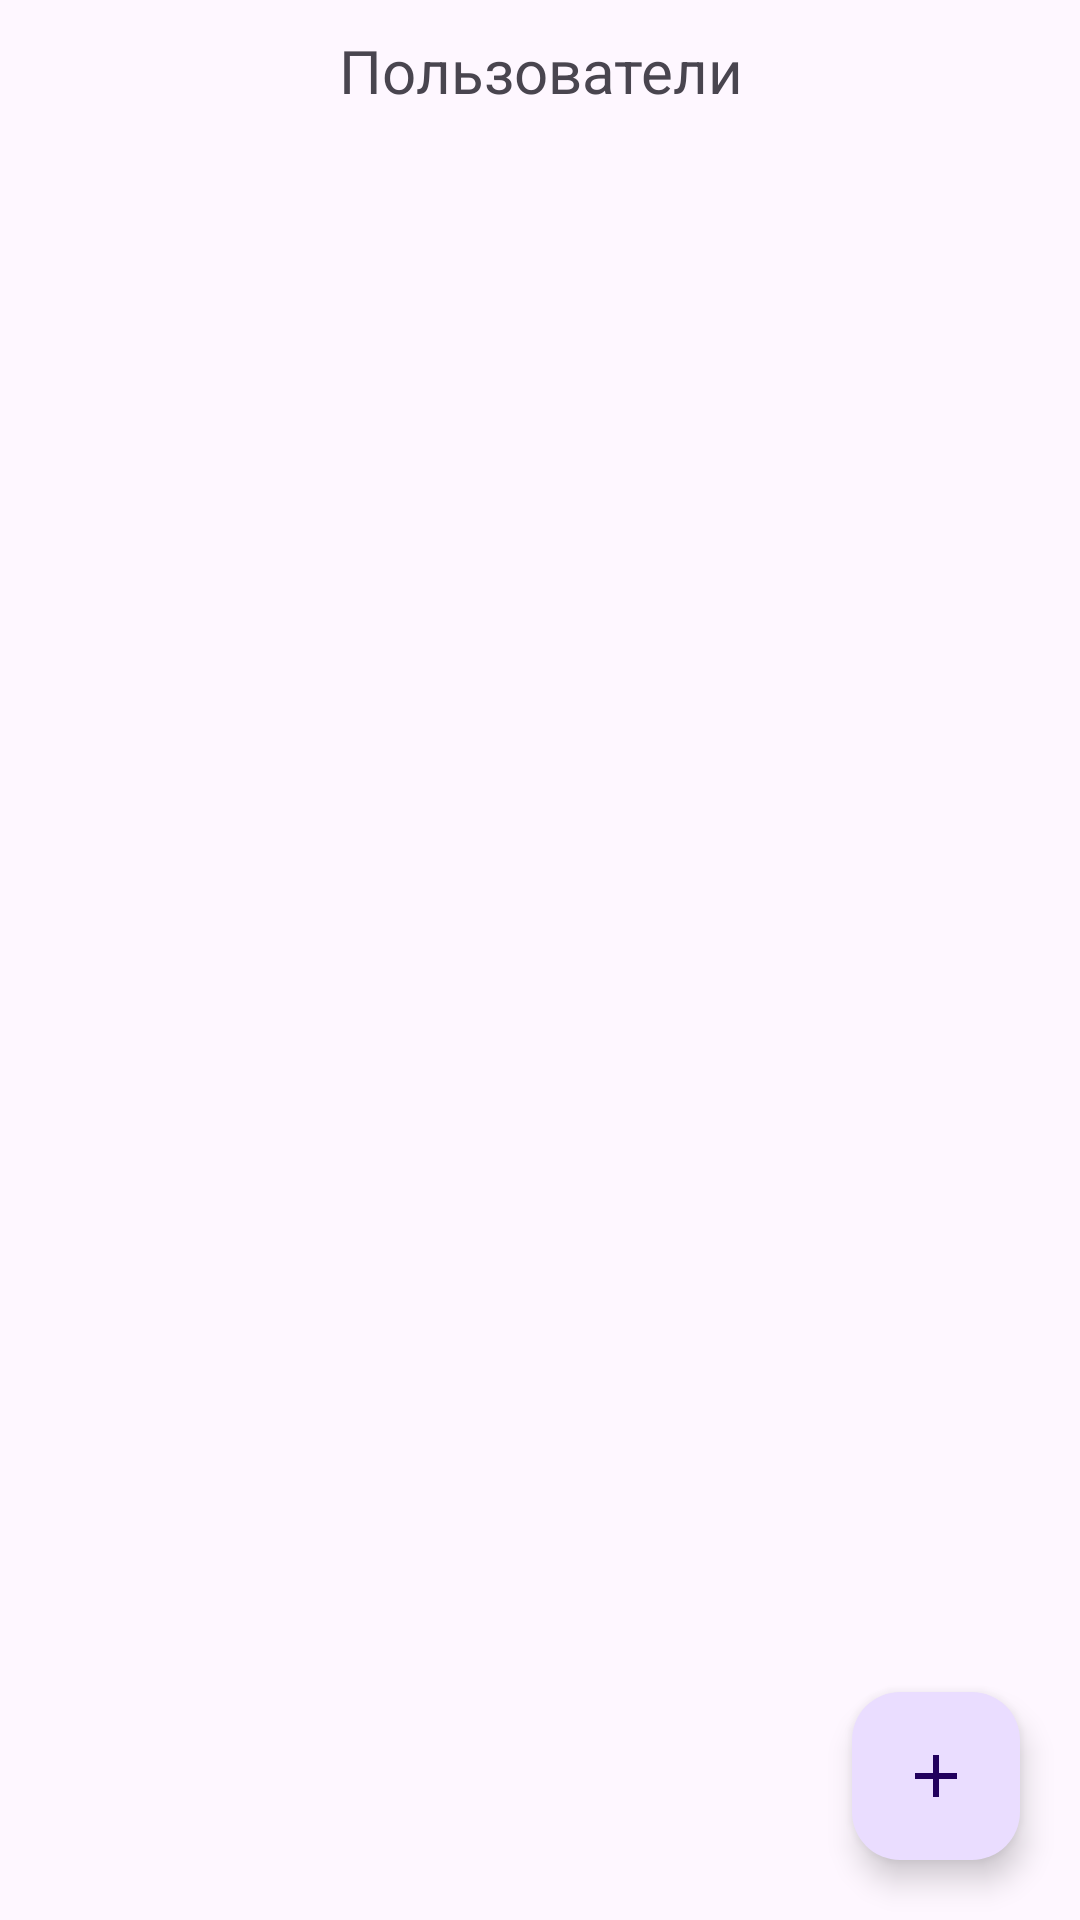

Icons on this 1080×1920 Android screen, each with its box as (x1, y1, x2, y2):
add news: (852, 1692, 1020, 1860)
